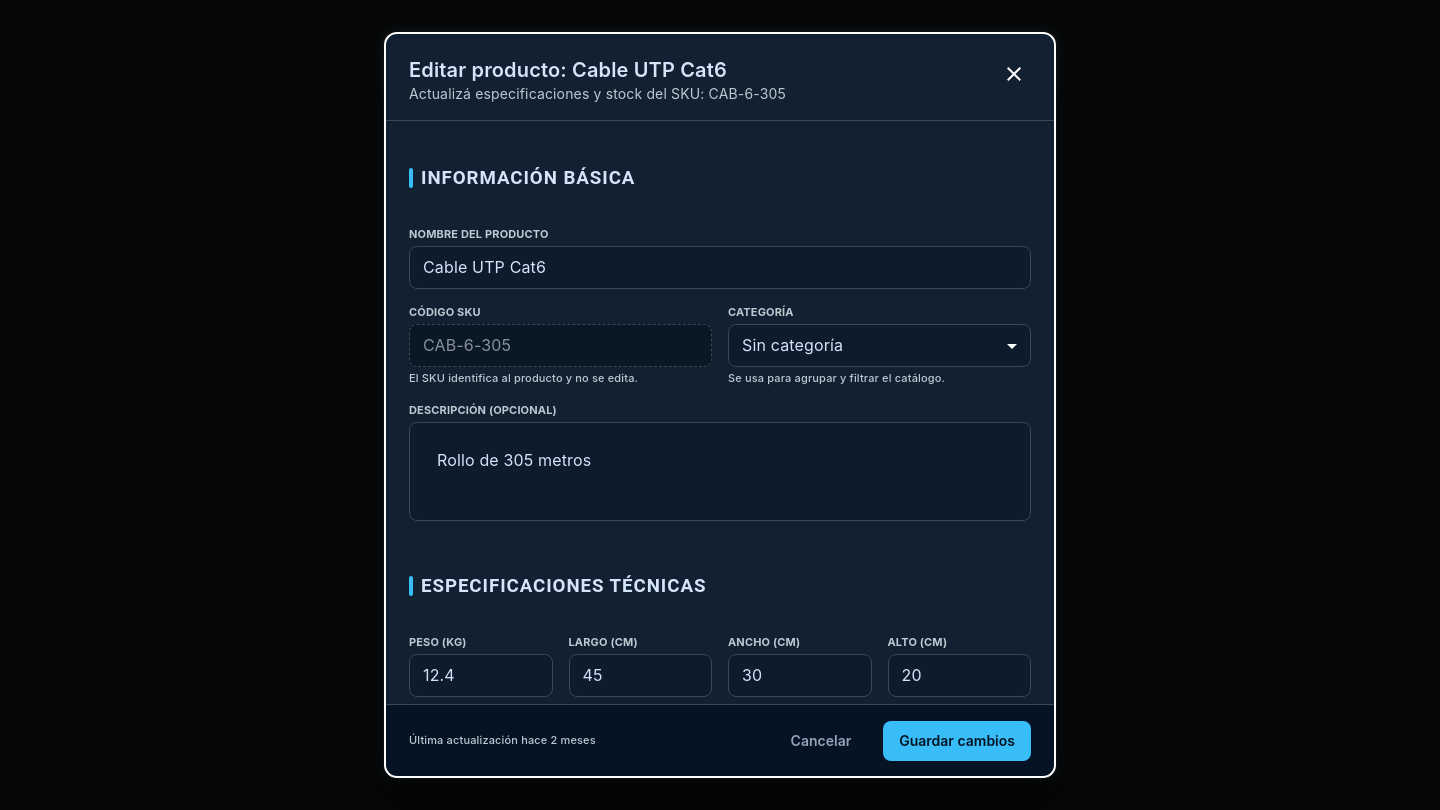
Test: EditProductModal › the category › offers the vocabulary of the API plus no category
Press the mouse on the dropdown labelled "categoría": {"x": 793, "y": 345} [742,335,843,355]
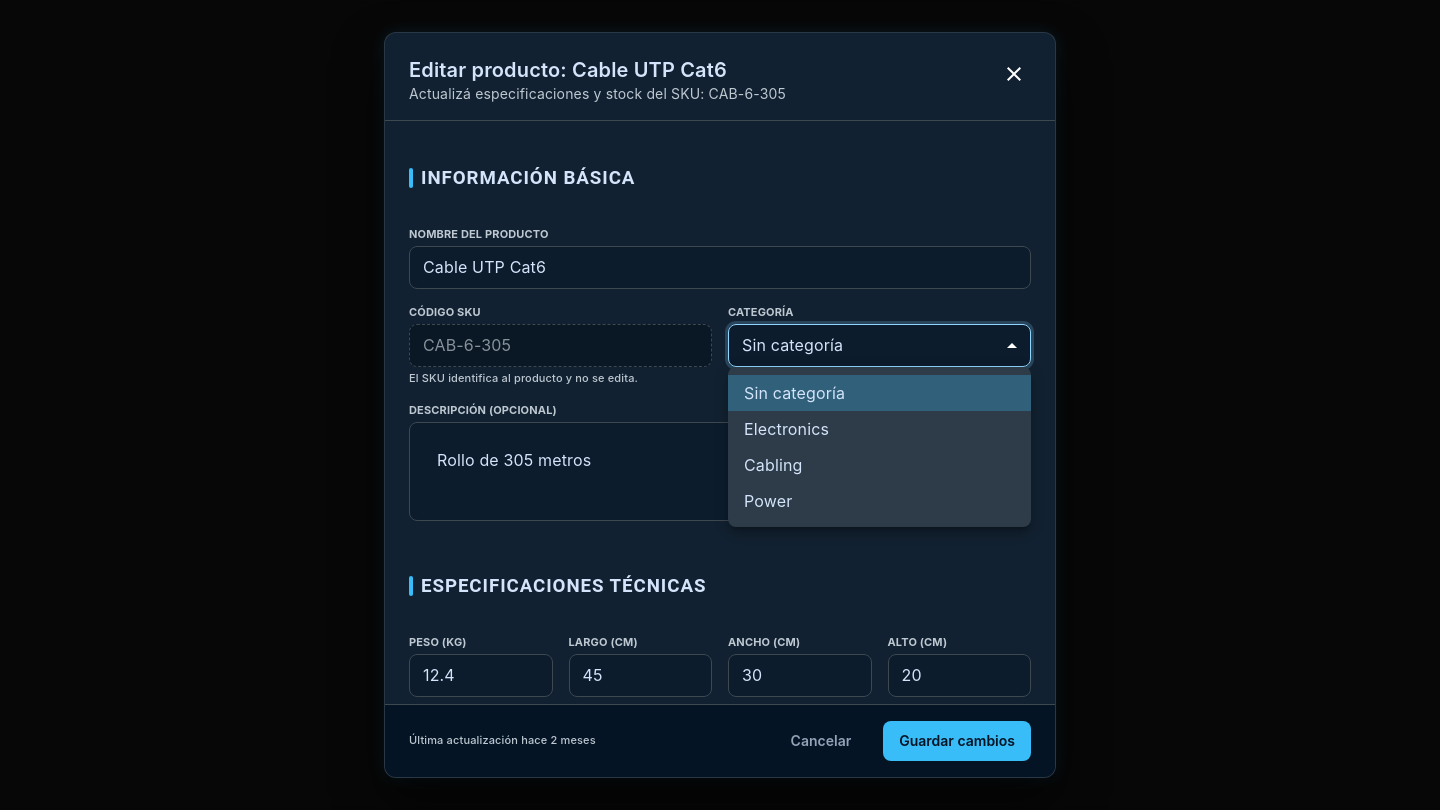
Expected: the options read "Sin categoría", "Electronics", "Cabling", "Power", in this order, [728,375,1031,411]; [744,419,829,439]; [744,455,802,475]; [744,491,792,511]
